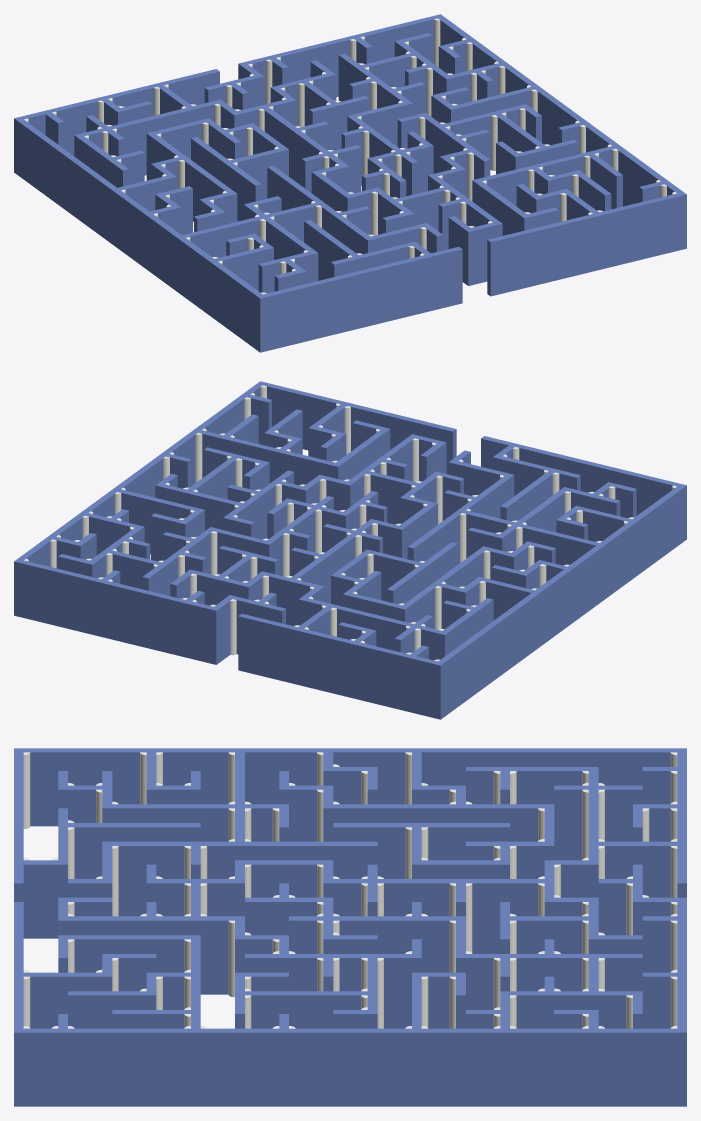
The model's file is maze2 v2.fbx.
3 views of the same model, one above another, from view 1: azimuth 30°, elevation 25°; view 2: azimuth 150°, elevation 25°; view 3: azimuth 270°, elevation 25° (orthographic). The views are drawn at different scales.
Parts seen in each view (by area): view 1: Curve.002, Cube.001; view 2: Curve.002, Cube.001; view 3: Curve.002, Cube.001.
Boxes of the visible parts, x1,y1,x2,y2 form: Curve.002: [14, 14, 686, 352]; Cube.001: [24, 18, 676, 294]; Curve.002: [14, 381, 686, 719]; Cube.001: [24, 385, 676, 661]; Curve.002: [14, 748, 686, 1106]; Cube.001: [23, 752, 677, 1028].
Bounding box in the file's own units: 825 × 100 × 825.
